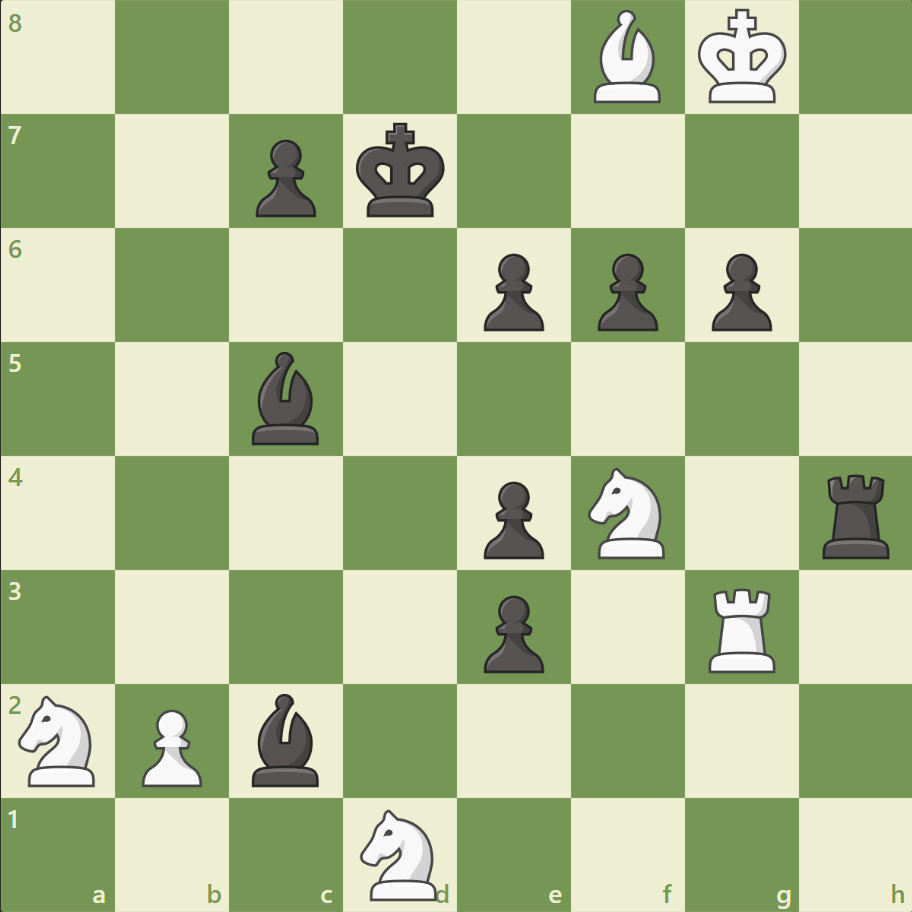B: (585, 6, 669, 109)
K: (692, 4, 792, 112)
N: (351, 802, 449, 904), (579, 461, 676, 564), (11, 688, 108, 791)
P: (133, 700, 208, 791)
R: (700, 579, 783, 676)
b: (244, 687, 328, 790), (244, 347, 328, 449)
k: (351, 117, 451, 225)
p: (247, 132, 322, 223), (474, 246, 549, 337), (701, 246, 776, 337), (474, 473, 549, 564), (474, 586, 549, 677), (588, 246, 662, 337)
r: (814, 466, 897, 563)
